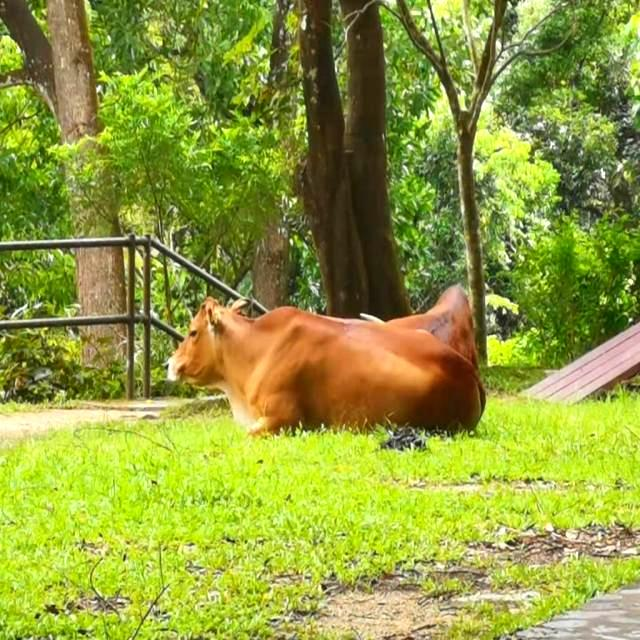COW: (169, 286, 485, 435)
